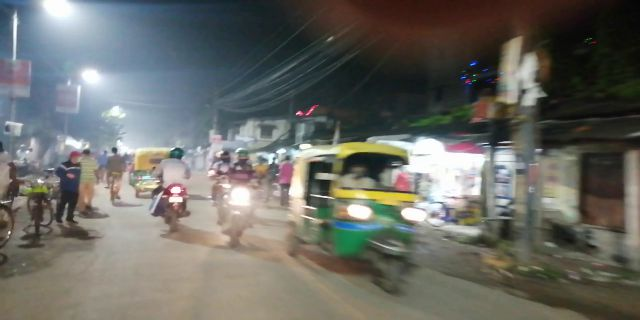Autorickshaw: (297, 139, 424, 294)
Motorbike: (212, 144, 257, 248), (152, 144, 189, 242)
